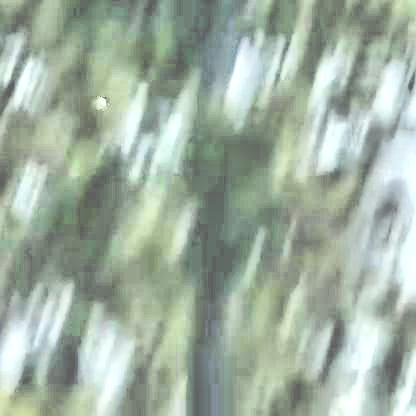golfball: (92, 93, 105, 106)
